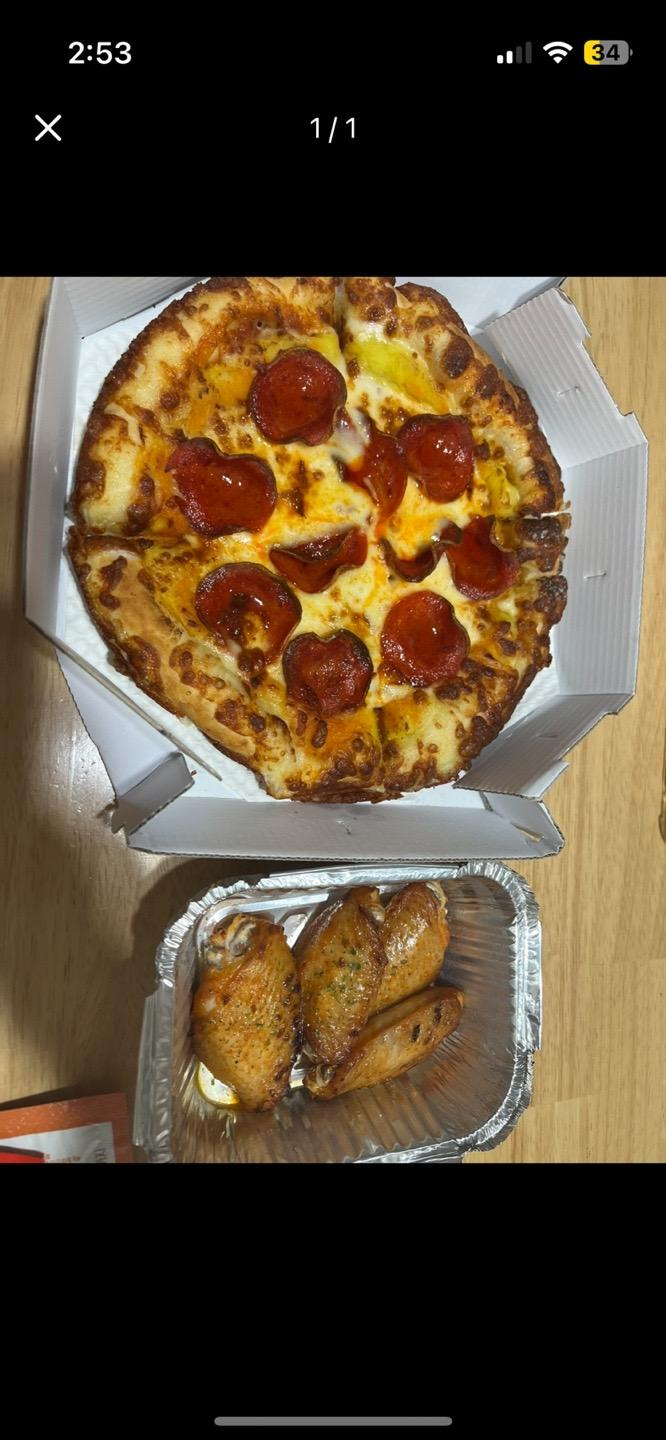Lunch Box: (26, 276, 646, 862), (135, 863, 540, 1163)
